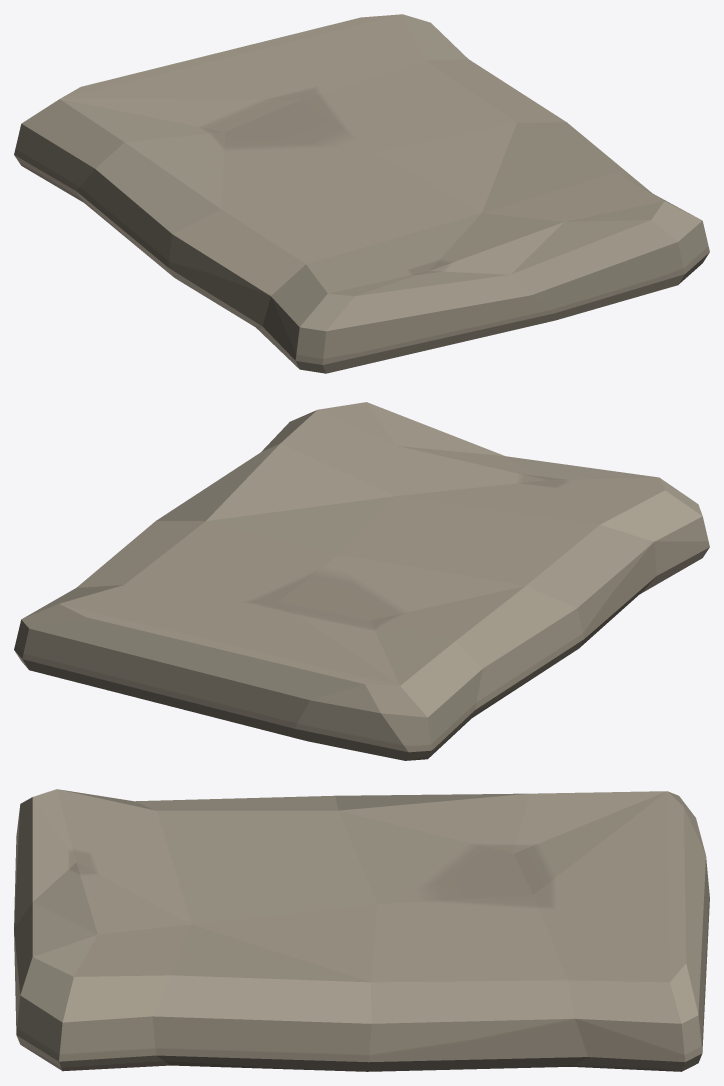
File: SM_Prop_Bed_Mattress_Big_01.fbx
The picture shows the model from 3 angles, top to bottom: view 1: azimuth 30°, elevation 25°; view 2: azimuth 150°, elevation 25°; view 3: azimuth 270°, elevation 25°; orthographic projection. The views are drawn at different scales.
Visible parts, largest first — view 1: SM_Prop_Bed_Mattress_Big_01; view 2: SM_Prop_Bed_Mattress_Big_01; view 3: SM_Prop_Bed_Mattress_Big_01.
Boxes of the visible parts, <box> form: SM_Prop_Bed_Mattress_Big_01: <box>14,14,709,373</box>; SM_Prop_Bed_Mattress_Big_01: <box>14,402,709,760</box>; SM_Prop_Bed_Mattress_Big_01: <box>14,789,709,1071</box>.
Size of the model in its own units: 176 by 28.67 by 221.
